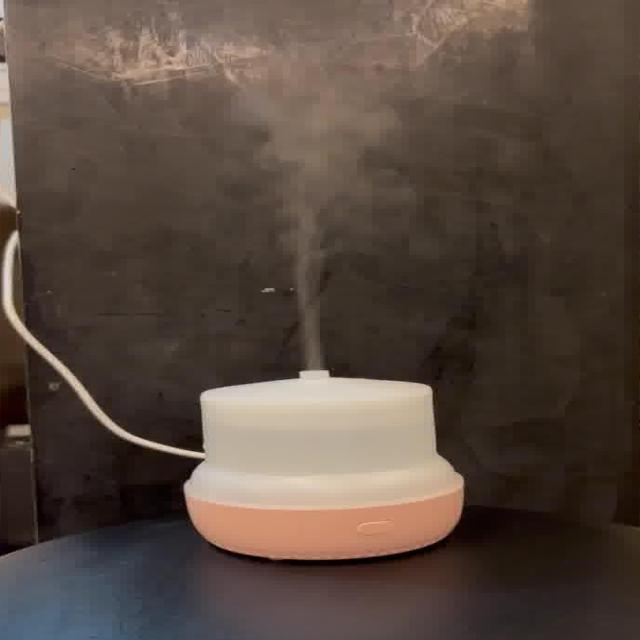fire: (212, 64, 420, 366)
